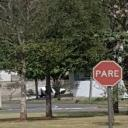Pare: (91, 60, 124, 87)
